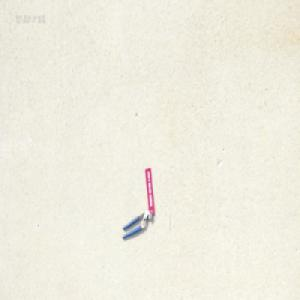Label: (144, 167, 155, 216)
Pliers: (121, 209, 152, 239)
